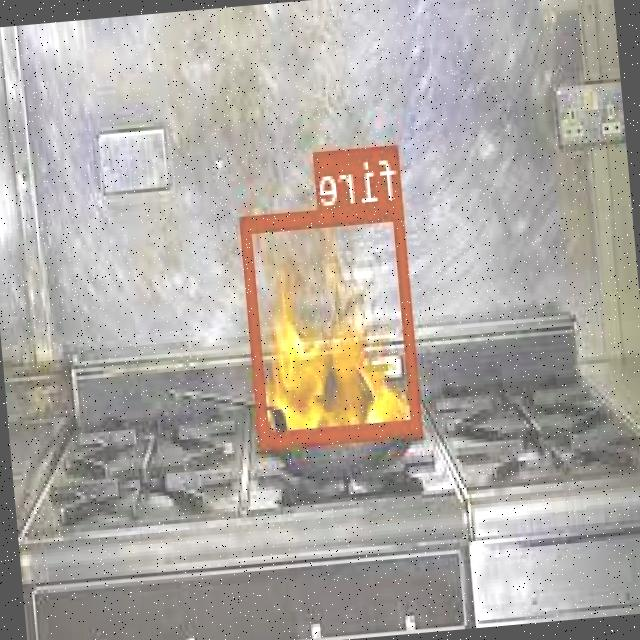fire: (243, 202, 424, 444)
